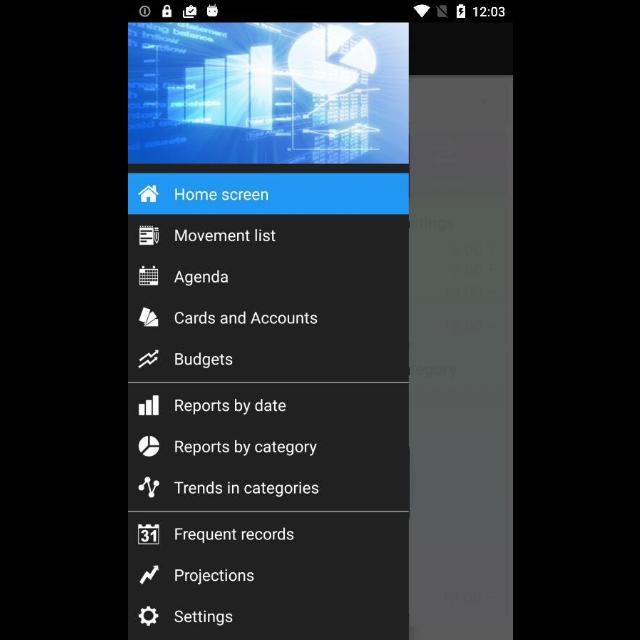icon: (138, 224, 160, 246), (137, 395, 159, 417), (137, 524, 159, 546), (138, 266, 158, 286), (138, 308, 158, 328), (139, 565, 159, 585), (138, 606, 158, 626), (137, 185, 159, 203), (138, 349, 158, 368)
image: (128, 24, 408, 164), (138, 435, 160, 457), (137, 476, 159, 498)
panel: (128, 24, 408, 638)
text: (174, 480, 318, 498), (174, 439, 316, 456), (174, 398, 286, 416), (175, 311, 318, 325), (174, 528, 294, 544), (174, 229, 276, 243), (174, 568, 253, 586), (174, 189, 268, 201), (174, 352, 232, 370), (174, 270, 228, 288), (174, 610, 232, 626)
uppertaskbar: (128, 1, 512, 23)
